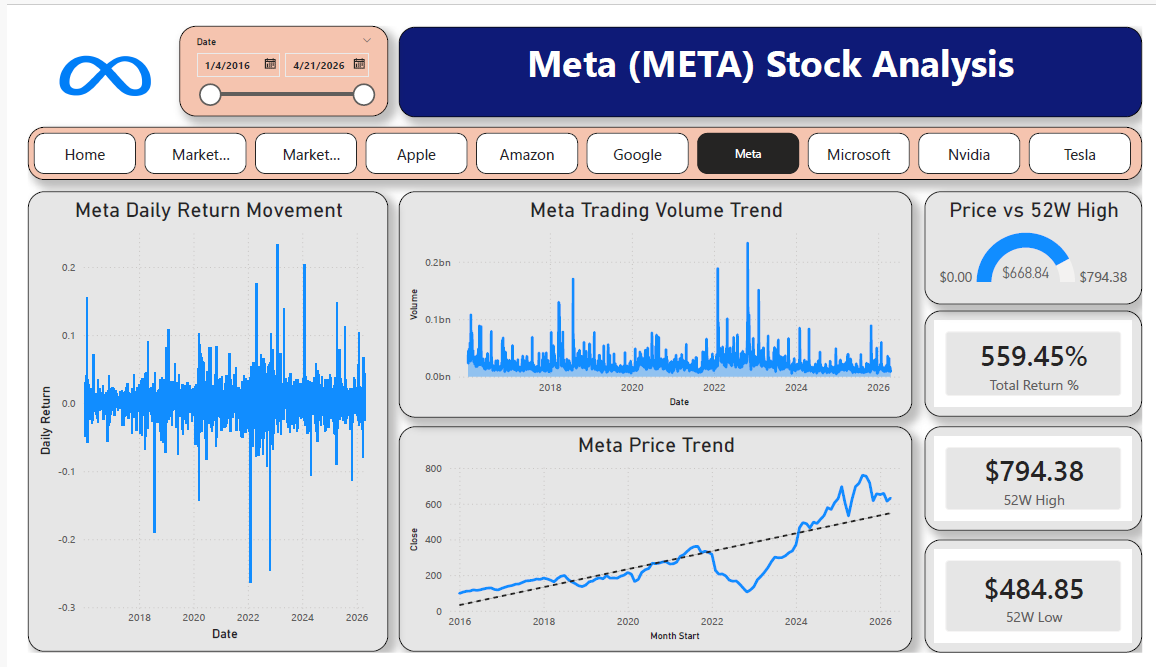

This screenshot's page, from the dashboard's own definition file:
{"tool":"powerbi","page":{"name":"Meta","canvas":[1280,720],"ordinal":6},"visuals":[{"type":"image","box":[0,0,173.8,115],"z":0},{"type":"textbox","box":[426.2,1.2,853.8,103.8],"z":1000},{"type":"slicer","fields":{"Values":["DateTable.Date"]},"box":[173.8,0,240,103.8],"z":2000},{"type":"pageNavigator","box":[0,115.7,1280,61.4],"z":3000},{"type":"cardVisual","fields":{"Data":["mag7_powerbi_ready.Total Return %"]},"box":[1030,327.1,250,121.4],"z":5000},{"type":"cardVisual","fields":{"Data":["mag7_powerbi_ready.52W High"]},"box":[1030,460,250,120],"z":6000},{"type":"cardVisual","fields":{"Data":["mag7_powerbi_ready.52W Low"]},"box":[1030,590,250,130],"z":7000},{"type":"lineChart","title":"Meta Price Trend ","fields":{"Y":["Avg(mag7_powerbi_ready.Close)"],"Category":["mag7_powerbi_ready.Month Start"]},"box":[426.2,460,590,258.8],"z":8000},{"type":"areaChart","title":"Meta Trading Volume Trend","fields":{"Y":["Avg(mag7_powerbi_ready.Volume)"],"Category":["DateTable.Date"]},"box":[425.7,190,590,260],"z":9000},{"type":"clusteredColumnChart","title":"Meta Daily Return Movement","fields":{"Y":["Avg(mag7_powerbi_ready.Daily_Return)"],"Category":["DateTable.Date"]},"box":[0,190,413.8,528.8],"z":10000},{"type":"gauge","title":"Price vs 52W High","fields":{"MaxValue":["mag7_powerbi_ready.52W High"],"Y":["mag7_powerbi_ready.Latest Close"]},"box":[1029.7,189.6,250.3,130.1],"z":10001}]}

Visuals, with their boxes in screenshot pixels (x1, y1, x2, y2), scaled from the page's 1280x720 canvas onto the 1156x667 screenshot:
image: <bbox>0, 0, 157, 107</bbox>
textbox: <bbox>385, 1, 1155, 97</bbox>
slicer - DateTable.Date: <bbox>157, 0, 374, 96</bbox>
pageNavigator: <bbox>0, 107, 1155, 164</bbox>
cardVisual - mag7_powerbi_ready.Total Return %: <bbox>930, 303, 1155, 415</bbox>
cardVisual - mag7_powerbi_ready.52W High: <bbox>930, 426, 1155, 537</bbox>
cardVisual - mag7_powerbi_ready.52W Low: <bbox>930, 547, 1155, 666</bbox>
"Meta Price Trend " lineChart: <bbox>385, 426, 918, 666</bbox>
"Meta Trading Volume Trend" areaChart: <bbox>384, 176, 917, 417</bbox>
"Meta Daily Return Movement" clusteredColumnChart: <bbox>0, 176, 374, 666</bbox>
"Price vs 52W High" gauge: <bbox>930, 176, 1155, 296</bbox>
